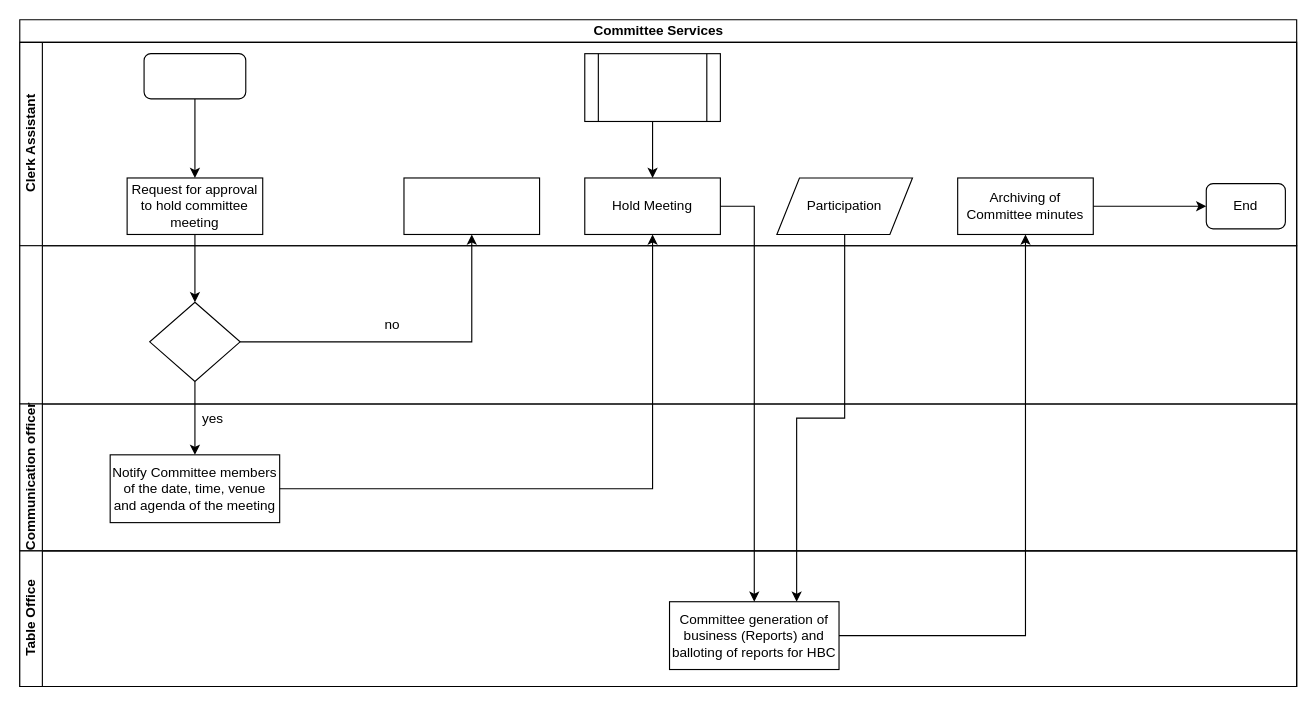
Some shapes in this 1316 by 706 pixel diagram are drawn without their labels. The box of each missing label's shape, as (x1, y1, x2, y2) in pixels:
Clerk/Speaker: (19, 245, 1297, 404)
Registration of Committee members: (584, 53, 720, 121)
Request Approved?: (149, 301, 240, 381)
Reschedule meeting to another date: (403, 177, 540, 234)
Start: (143, 53, 246, 99)
